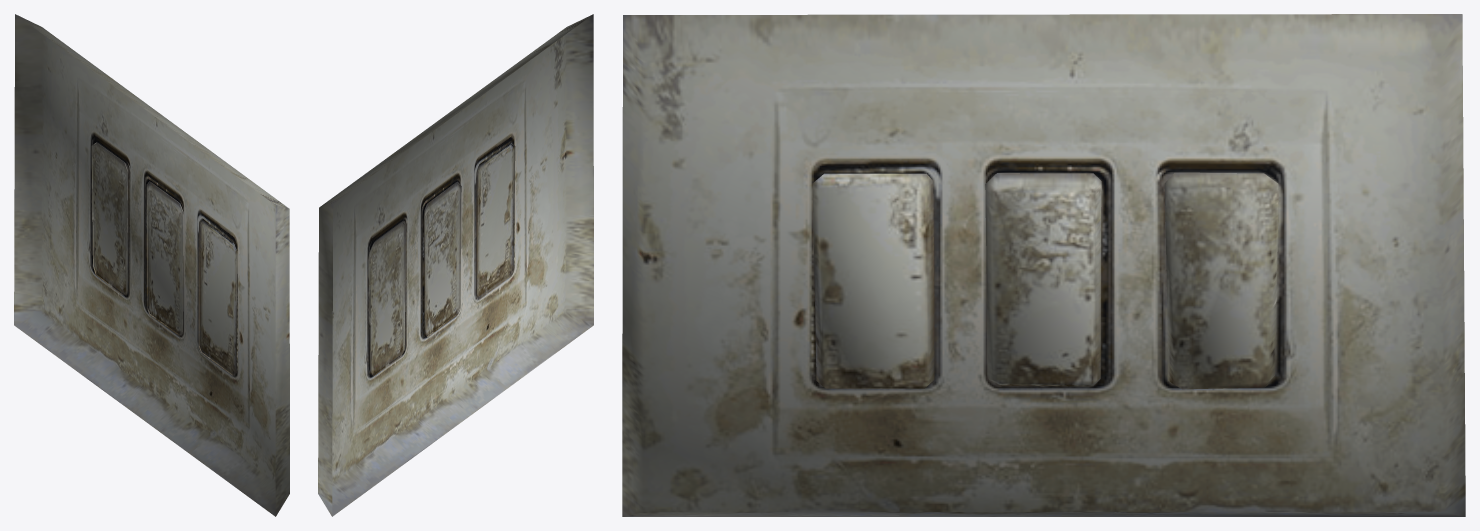
The model's file is Electrical_Switch_04.fbx.
The picture shows the model from 3 angles, left to right: view 1: azimuth 30°, elevation 25°; view 2: azimuth 150°, elevation 25°; view 3: azimuth 270°, elevation 25°; orthographic projection. The views are drawn at different scales.
Visible parts, largest first — view 1: Electrical_Switch_04; view 2: Electrical_Switch_04; view 3: Electrical_Switch_04.
Part boxes in pixels (box(x1,y1,x2,y2)): Electrical_Switch_04: box(14, 14, 289, 516); Electrical_Switch_04: box(318, 14, 593, 516); Electrical_Switch_04: box(622, 14, 1465, 516).
Size of the model in its own units: 1.16 by 17.78 by 11.7.
1 material, 1 textured.
